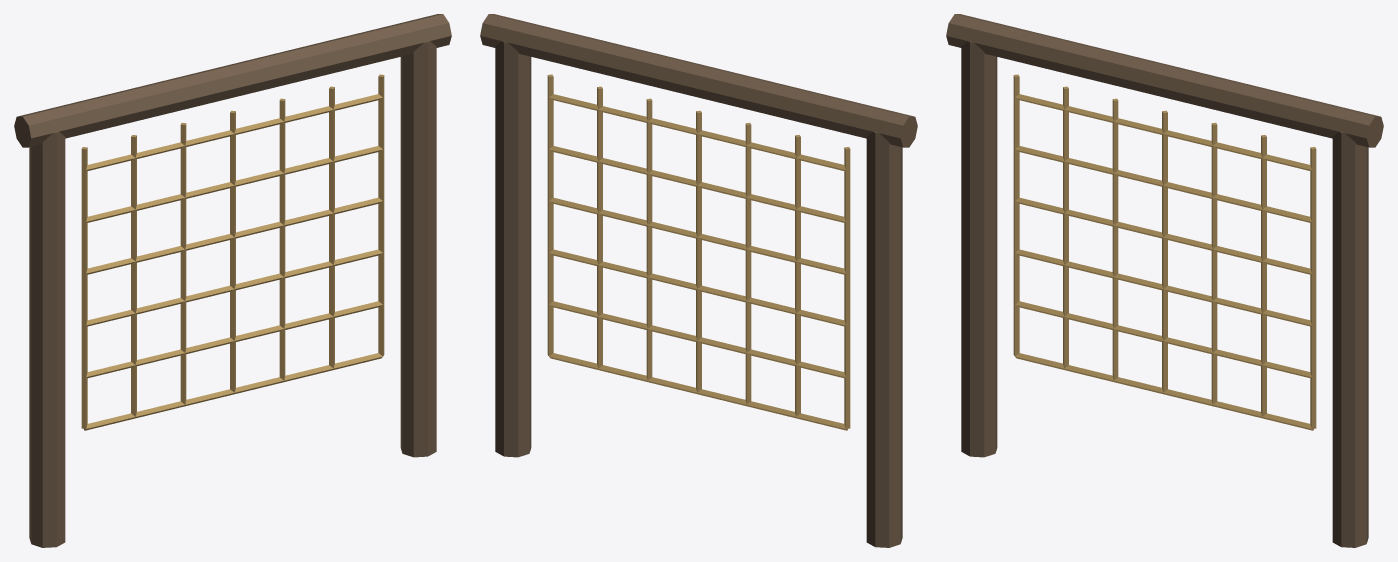
The model's file is net-rack.glb.
3 renders of one model, left to right at view 1: azimuth 30°, elevation 25°; view 2: azimuth 150°, elevation 25°; view 3: azimuth 330°, elevation 25°, orthographic.
Parts seen in each view (by area): view 1: net-rack__body; view 2: net-rack__body; view 3: net-rack__body.
Part boxes in pixels (<box>): net-rack__body: <box>14,14,451,547</box>; net-rack__body: <box>480,14,917,547</box>; net-rack__body: <box>946,14,1383,547</box>.
Bounding box in the file's own units: 1.7 × 1.66 × 0.13.
